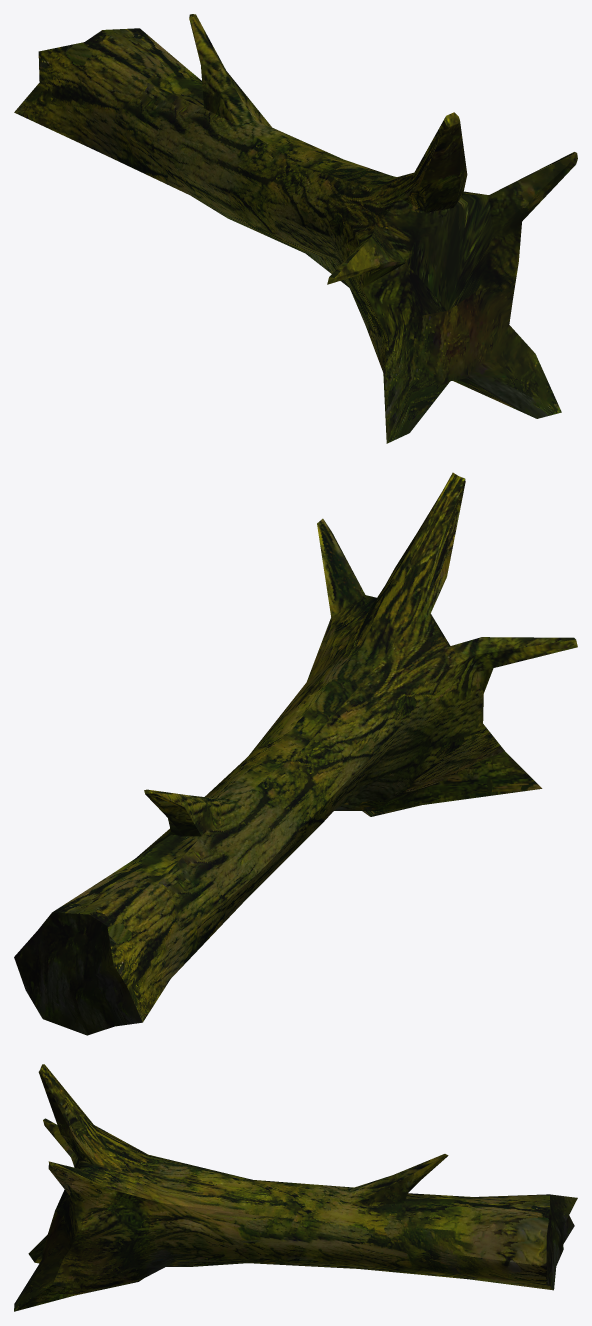
Rendered from Mud_Tree_009_Log.fbx.
The picture shows the model from 3 angles, top to bottom: view 1: azimuth 30°, elevation 25°; view 2: azimuth 150°, elevation 25°; view 3: azimuth 270°, elevation 25°; orthographic projection. The views are drawn at different scales.
Visible parts, largest first — view 1: Mud_Tree_009_Log_LOD0; view 2: Mud_Tree_009_Log_LOD0; view 3: Mud_Tree_009_Log_LOD0.
Part boxes in pixels (x1,y1,x2,y2): Mud_Tree_009_Log_LOD0: (14,14,577,443); Mud_Tree_009_Log_LOD0: (14,472,577,1035); Mud_Tree_009_Log_LOD0: (14,1064,577,1311).
Size of what is drawn, in the model's own units: 528 by 607 by 1427.
Materials: 1 (1 with a texture image).
